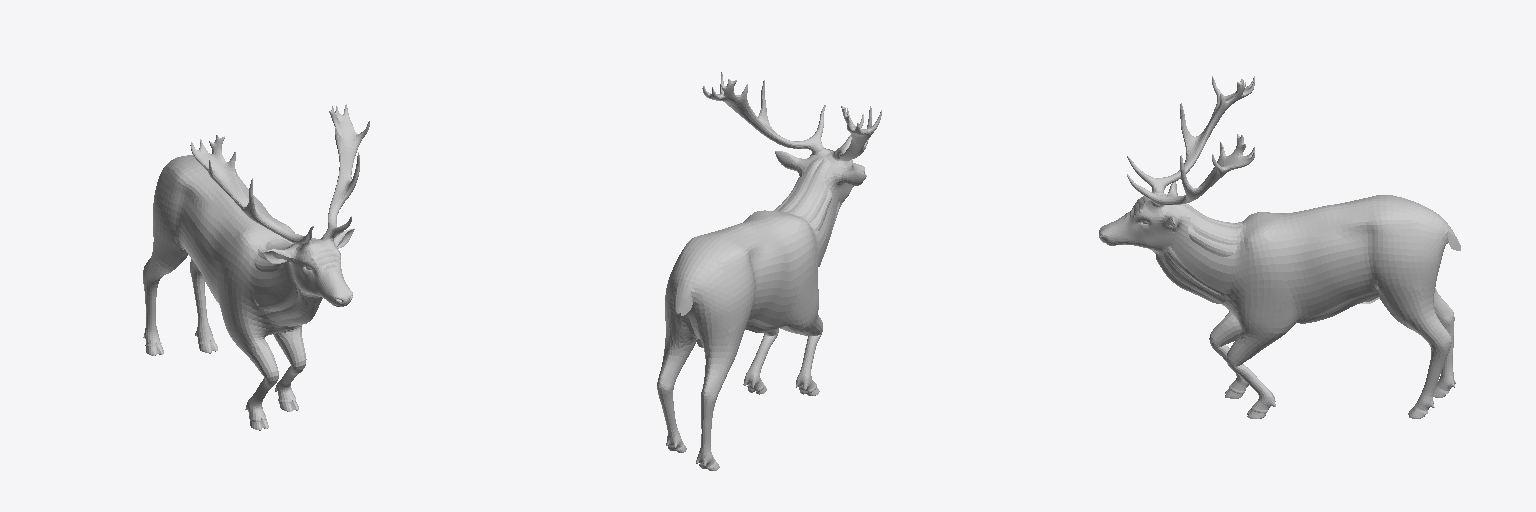
Rendered from frame_0024_uv.obj.
3 renders of one model, left to right at view 1: azimuth 30°, elevation 25°; view 2: azimuth 150°, elevation 25°; view 3: azimuth 270°, elevation 25°, orthographic.
Visible parts, largest first — view 1: pMesh1; view 2: pMesh1; view 3: pMesh1.
Boxes of the visible parts, <box> form: pMesh1: <box>143,104,369,430</box>; pMesh1: <box>657,72,881,470</box>; pMesh1: <box>1099,76,1460,418</box>.
Size of the model in its own units: 1.05 by 1.86 by 2.05.